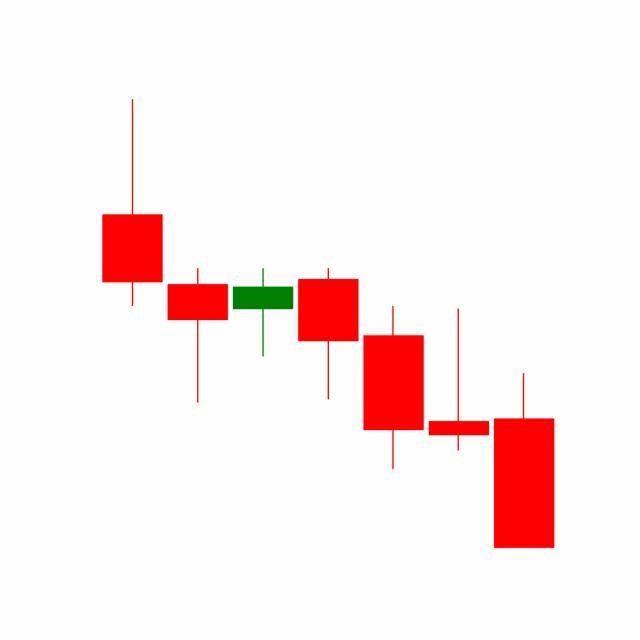Hikkake Pattern: (229, 265, 555, 549)
